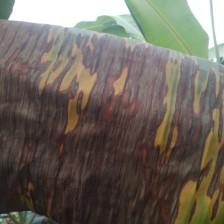sigatoka: (0, 19, 224, 224)
